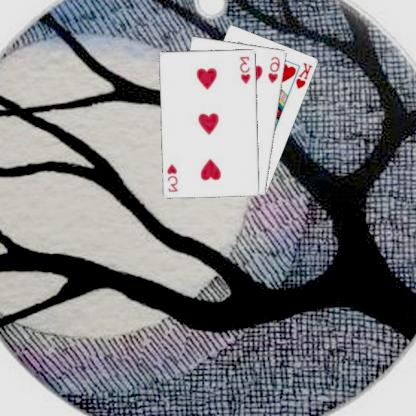3H: (166, 160, 182, 192), (239, 53, 254, 85)
6H: (267, 53, 284, 84)
KH: (295, 60, 316, 90)
